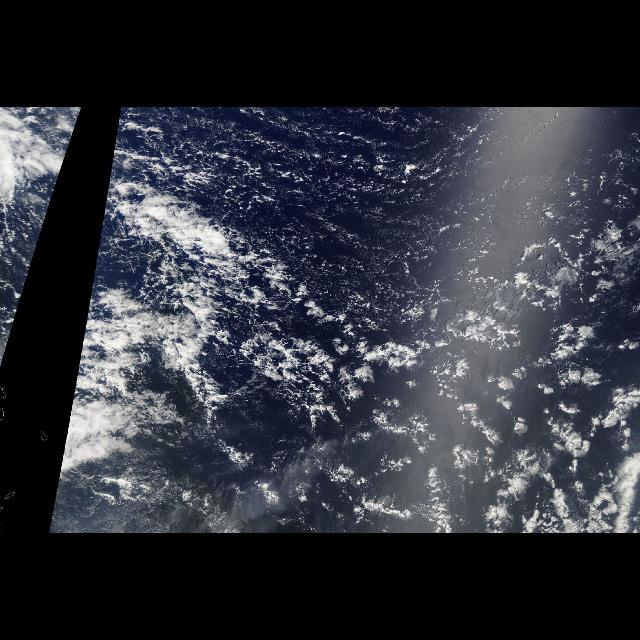Gravel: (140, 115, 512, 219)
Sugar: (158, 107, 612, 319)
